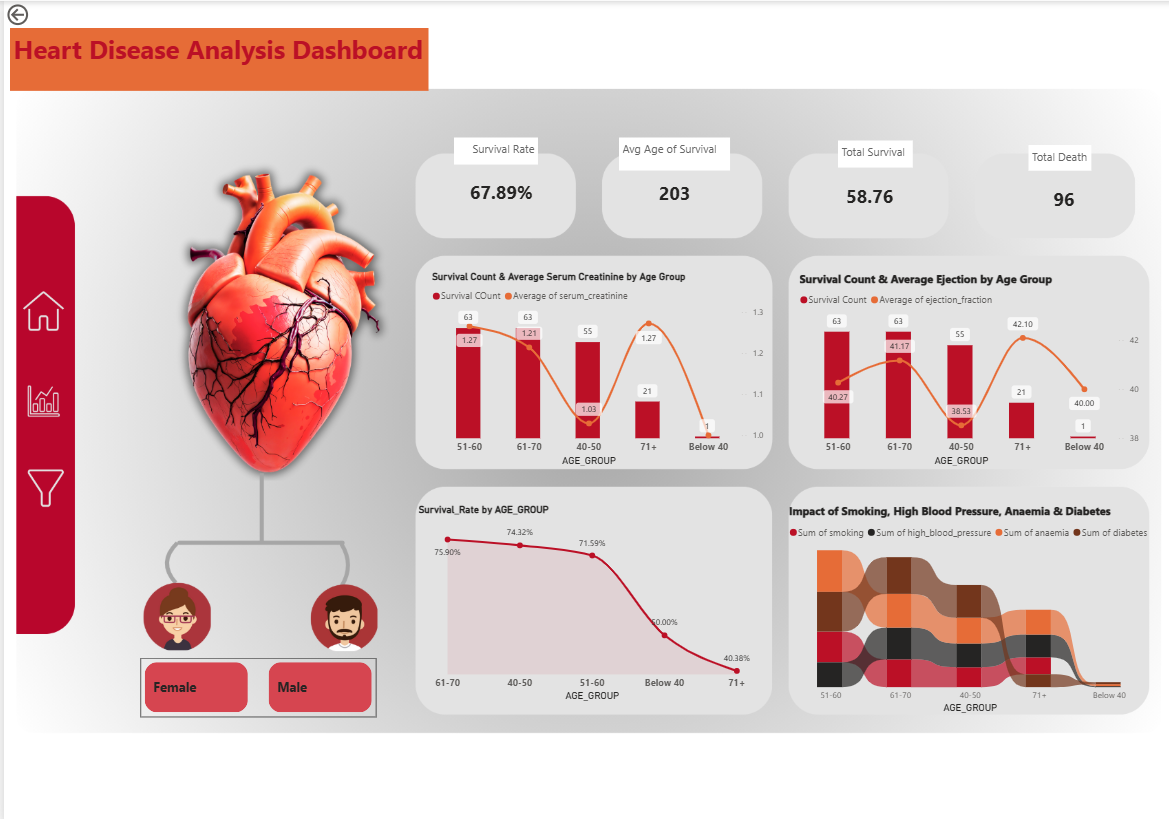

What the dashboard file says about the page in this screenshot:
{"tool":"powerbi","page":{"name":"Page 1","canvas":[1700,1200],"ordinal":0},"visuals":[{"type":"textbox","box":[8.7,39.2,608,91.5],"z":0},{"type":"card","fields":{"Values":["heart_Disease_clinical_records_.Survival_Rate"]},"box":[579.7,198.3,285.5,159.1],"z":1000},{"type":"actionButton","box":[0,0,100,40],"z":2000},{"type":"card","fields":{"Values":["heart_Disease_clinical_records_.Avg_Age_Survival"]},"box":[1135.4,217.9,244.1,130.8],"z":3000},{"type":"card","fields":{"Values":["heart_Disease_clinical_records_.Total_Survival"]},"box":[865.1,209.2,217.9,139.5],"z":4000},{"type":"card","fields":{"Values":["heart_Disease_clinical_records_.Total_Death"]},"box":[1455.7,217.9,167.8,139.5],"z":5000},{"type":"textbox","box":[653.8,198.3,122,39.2],"z":6000},{"type":"lineClusteredColumnComboChart","title":"Survival Count & Average Serum Creatinine by Age Group","fields":{"Category":["heart_Disease_clinical_records_.AGE_GROUP"],"Y":["CountNonNull(heart_Disease_clinical_records_.DEATH_EVENT)"],"Y2":["Avg(heart_Disease_clinical_records_.serum_creatinine)"]},"box":[616.7,392.3,494.7,287.7],"z":7000},{"type":"textbox","box":[893.5,198.3,161.3,47.9],"z":8000},{"type":"textbox","box":[1211.6,202.7,109,39.2],"z":9000},{"type":"textbox","box":[1488.4,209.2,91.5,37],"z":10000},{"type":"lineClusteredColumnComboChart","title":"Survival Count & Average Ejection by Age Group","fields":{"Category":["heart_Disease_clinical_records_.AGE_GROUP"],"Y":["CountNonNull(heart_Disease_clinical_records_.DEATH_EVENT)"],"Y2":["Avg(heart_Disease_clinical_records_.ejection_fraction)"]},"box":[1150.6,392.3,505.6,287.7],"z":11000},{"type":"lineChart","fields":{"Category":["heart_Disease_clinical_records_.AGE_GROUP"],"Y":["heart_Disease_clinical_records_.Survival_Rate"]},"box":[597.1,730,514.3,292],"z":12000},{"type":"ribbonChart","title":"Impact of Smoking, High Blood Pressure, Anaemia & Diabetes","fields":{"Category":["heart_Disease_clinical_records_.AGE_GROUP"],"Y":["Sum(heart_Disease_clinical_records_.smoking)","Sum(heart_Disease_clinical_records_.high_blood_pressure)","Sum(heart_Disease_clinical_records_.anaemia)","Sum(heart_Disease_clinical_records_.diabetes)"]},"box":[1135.4,730,536.1,309.4],"z":13000},{"type":"advancedSlicerVisual","fields":{"Values":["heart_Disease_clinical_records_.Gender"]},"box":[198.3,954.9,342.8,85.7],"z":14000}]}

Visuals, with their boxes on the page's 1700x1200 design canvas (x1, y1, x2, y2). These are canvas units, not pixel positions in the 1169x819 screenshot, which may show the page scaled, cropped or inside an application window:
textbox: box=[9, 39, 617, 131]
card - heart_Disease_clinical_records_.Survival_Rate: box=[580, 198, 865, 357]
actionButton: box=[0, 0, 100, 40]
card - heart_Disease_clinical_records_.Avg_Age_Survival: box=[1135, 218, 1380, 349]
card - heart_Disease_clinical_records_.Total_Survival: box=[865, 209, 1083, 349]
card - heart_Disease_clinical_records_.Total_Death: box=[1456, 218, 1624, 357]
textbox: box=[654, 198, 776, 238]
"Survival Count & Average Serum Creatinine by Age Group" lineClusteredColumnComboChart: box=[617, 392, 1111, 680]
textbox: box=[894, 198, 1055, 246]
textbox: box=[1212, 203, 1321, 242]
textbox: box=[1488, 209, 1580, 246]
"Survival Count & Average Ejection by Age Group" lineClusteredColumnComboChart: box=[1151, 392, 1656, 680]
lineChart - heart_Disease_clinical_records_.AGE_GROUP x heart_Disease_clinical_records_.Survival_Rate: box=[597, 730, 1111, 1022]
"Impact of Smoking, High Blood Pressure, Anaemia & Diabetes" ribbonChart: box=[1135, 730, 1672, 1039]
advancedSlicerVisual - heart_Disease_clinical_records_.Gender: box=[198, 955, 541, 1041]
